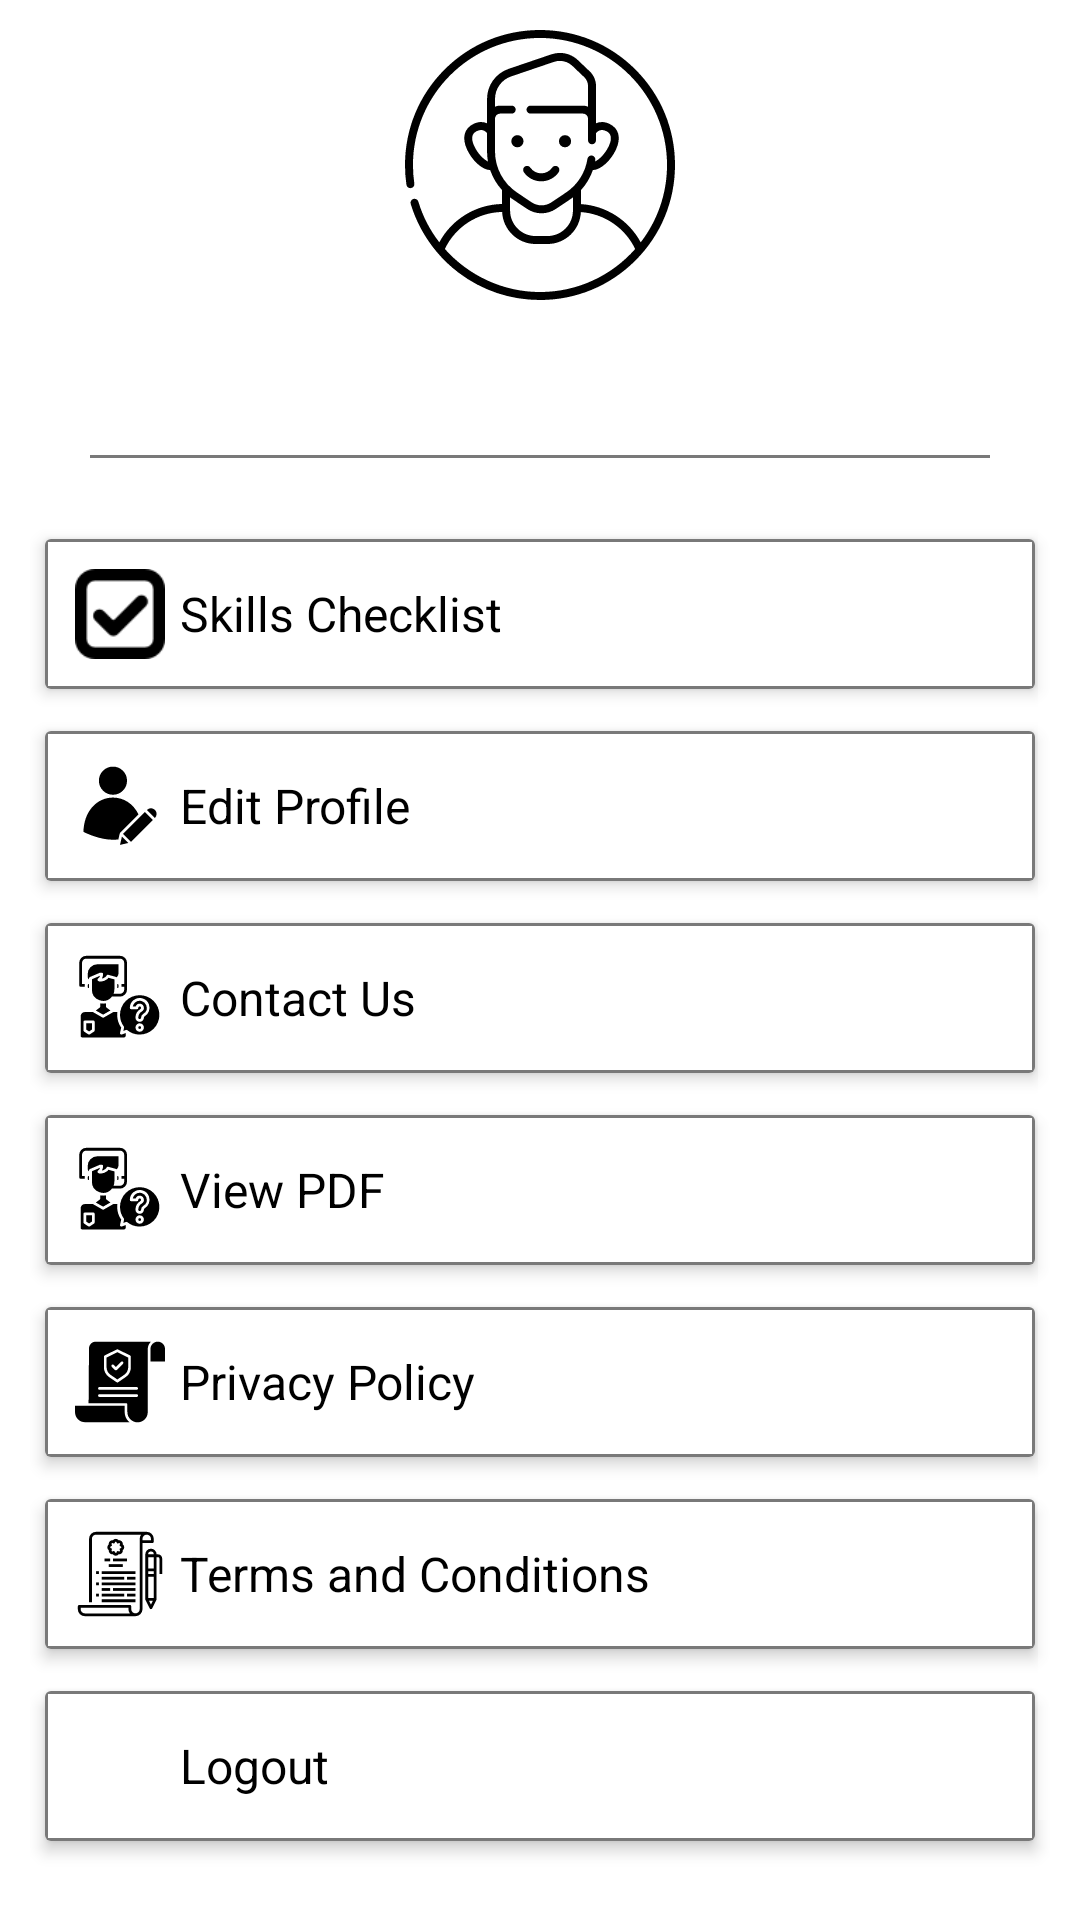

Where to tap for icons on this 1080px×1920px app screen, as (x=x, y=y):
check mark: (x=120, y=614)
profile: (x=540, y=165)
